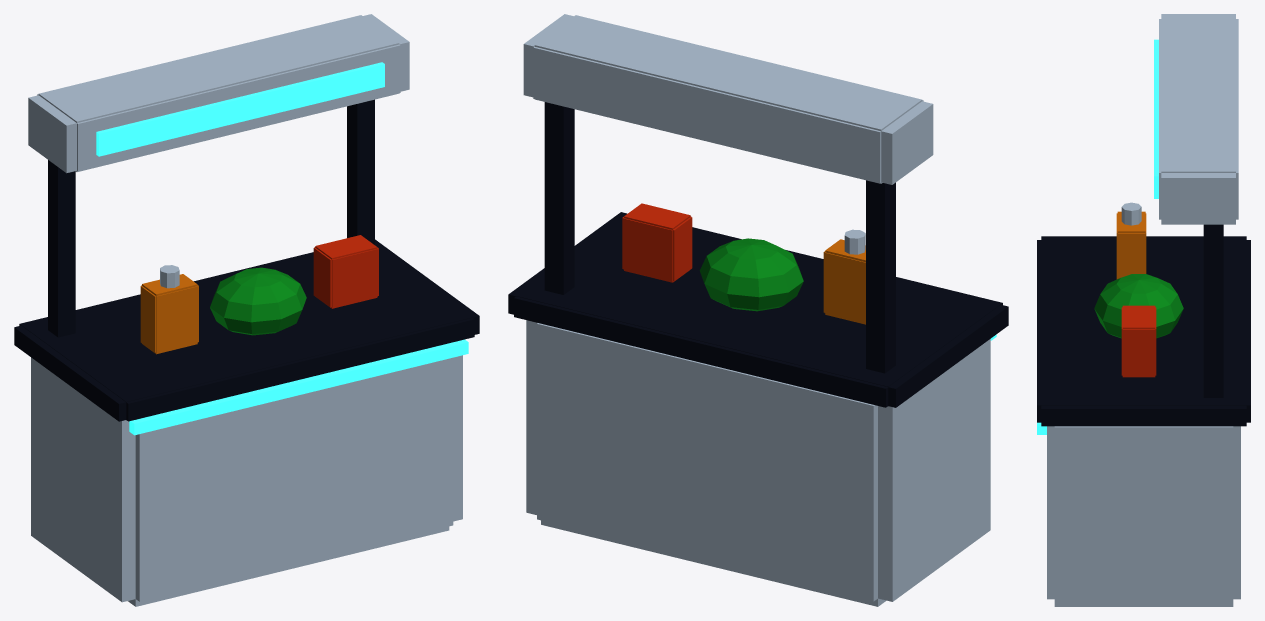
Rendered from prop_kitchen_counter.glb.
3 views of the same model, side by side, from view 1: azimuth 30°, elevation 25°; view 2: azimuth 150°, elevation 25°; view 3: azimuth 270°, elevation 25° (orthographic). The views are drawn at different scales.
Parts seen in each view (by area): view 1: PropKitchenCounter; view 2: PropKitchenCounter; view 3: PropKitchenCounter.
Part boxes in pixels (bbox=[...]): PropKitchenCounter: bbox=[14, 14, 479, 606]; PropKitchenCounter: bbox=[508, 14, 1008, 606]; PropKitchenCounter: bbox=[1037, 14, 1250, 606].
Bounding box in the file's own units: 1.64 × 1.94 × 0.86.
